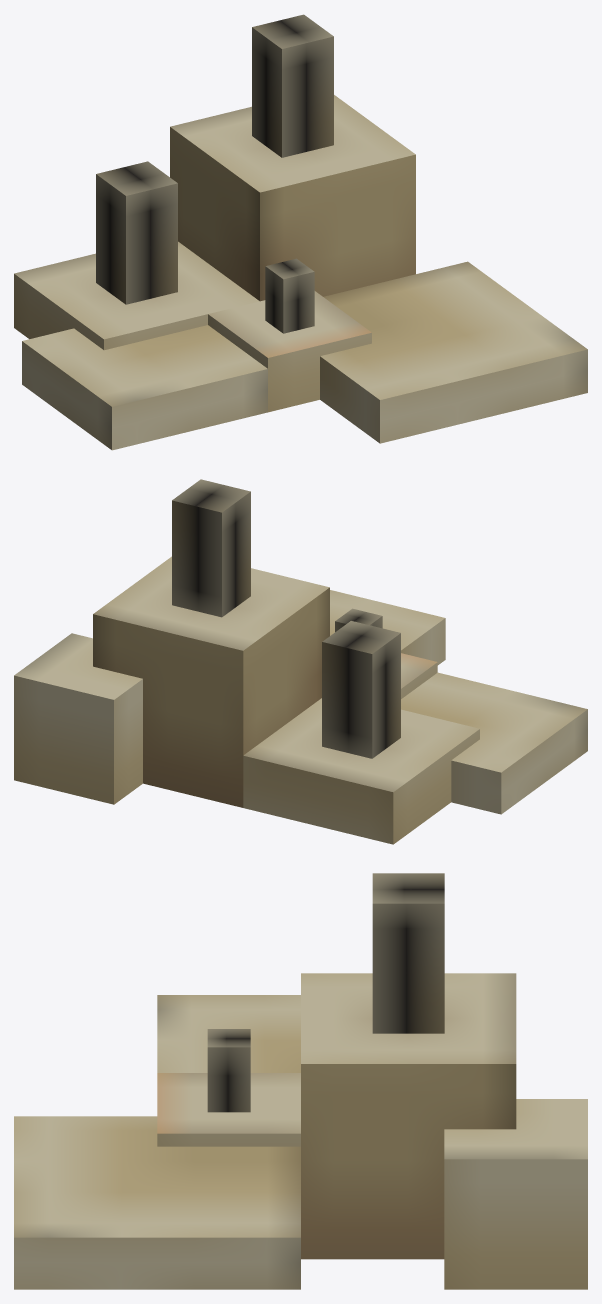
Rendered from candle_arrangement_05.fbx.
The picture shows the model from 3 angles, top to bottom: view 1: azimuth 30°, elevation 25°; view 2: azimuth 150°, elevation 25°; view 3: azimuth 270°, elevation 25°; orthographic projection. The views are drawn at different scales.
Parts seen in each view (by area): view 1: candle_arrangement_05; view 2: candle_arrangement_05; view 3: candle_arrangement_05.
Part boxes in pixels (x1,y1,x2,y2): candle_arrangement_05: [14, 14, 587, 450]; candle_arrangement_05: [14, 479, 587, 844]; candle_arrangement_05: [14, 873, 587, 1289].
Size of the model in its own units: 8 by 5 by 8.
